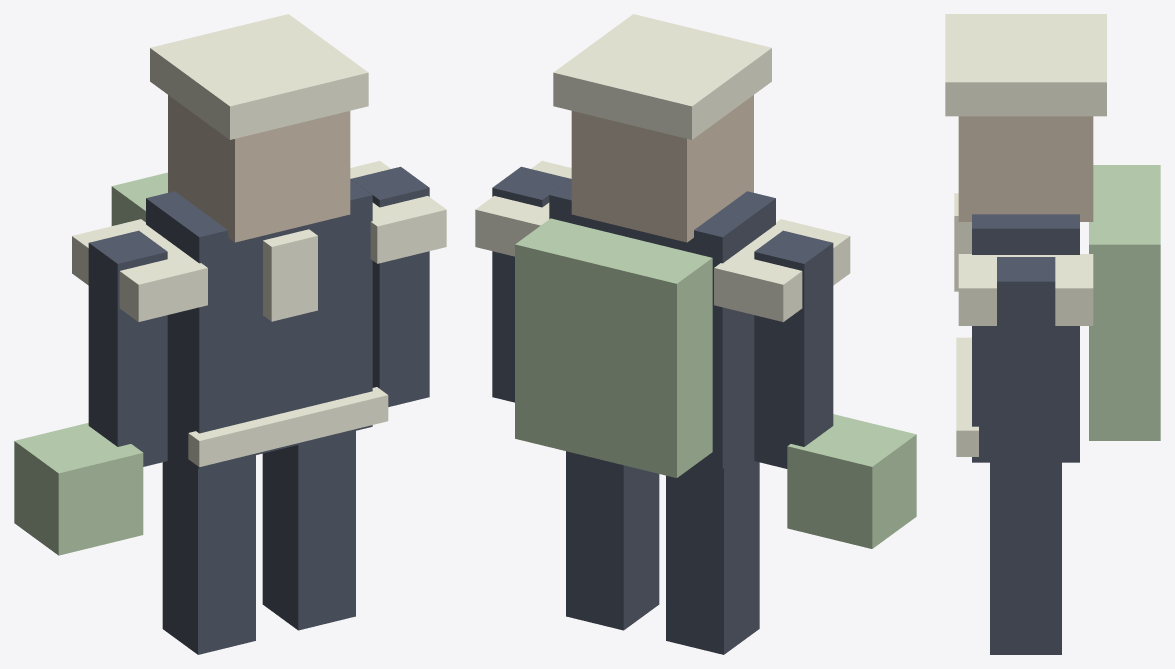
The model's file is 12_sarai_deepwell_pilgrim_of_shuttle.glb.
3 renders of one model, left to right at view 1: azimuth 30°, elevation 25°; view 2: azimuth 150°, elevation 25°; view 3: azimuth 270°, elevation 25°, orthographic.
Visible parts, largest first — view 1: Sarai Deepwell, Pilgrim of Shuttle; view 2: Sarai Deepwell, Pilgrim of Shuttle; view 3: Sarai Deepwell, Pilgrim of Shuttle.
Boxes of the visible parts, box(x1,y1,x2,y2) form: Sarai Deepwell, Pilgrim of Shuttle: box(14, 14, 446, 654); Sarai Deepwell, Pilgrim of Shuttle: box(475, 14, 916, 654); Sarai Deepwell, Pilgrim of Shuttle: box(945, 14, 1160, 654).
Size of the model in its own units: 1.08 by 1.51 by 0.5195.
